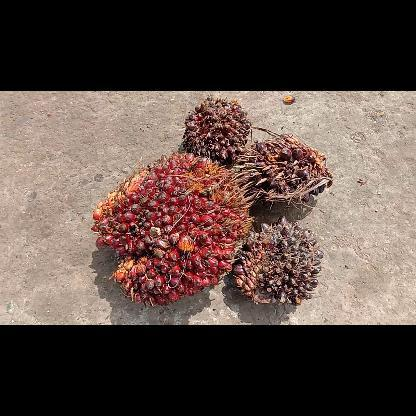TBS abnormal: (233, 212, 324, 306), (234, 130, 334, 212), (180, 93, 252, 165)
TBS masak: (88, 151, 256, 308)
